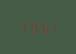nine: (28, 20, 37, 34)
one: (48, 19, 57, 33)
seven: (18, 20, 27, 34)
six: (38, 19, 47, 33)
